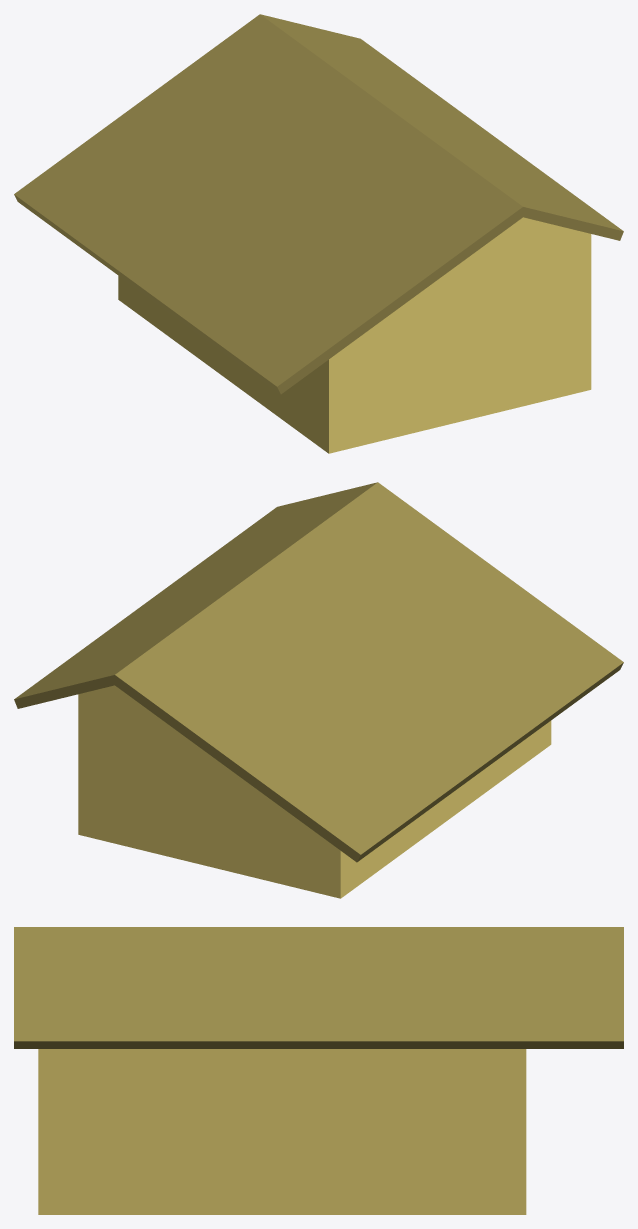
The model's file is result.glb.
3 views of the same model, one above another, from view 1: azimuth 30°, elevation 25°; view 2: azimuth 150°, elevation 25°; view 3: azimuth 270°, elevation 25° (orthographic). The views are drawn at different scales.
Visible parts, largest first — view 1: fd0e9b01-eb48-4d82-8ec3-e2e1b1454574__undefined (×2), af110290-658b-4aaa-be27-1644fa900ac5__undefined; view 2: fd0e9b01-eb48-4d82-8ec3-e2e1b1454574__undefined (×2), af110290-658b-4aaa-be27-1644fa900ac5__undefined; view 3: af110290-658b-4aaa-be27-1644fa900ac5__undefined, fd0e9b01-eb48-4d82-8ec3-e2e1b1454574__undefined.
Part boxes in pixels (x1,y1,x2,y2): fd0e9b01-eb48-4d82-8ec3-e2e1b1454574__undefined (×2): (14,14,623,394); af110290-658b-4aaa-be27-1644fa900ac5__undefined: (118,217,591,453); fd0e9b01-eb48-4d82-8ec3-e2e1b1454574__undefined (×2): (14,482,623,862); af110290-658b-4aaa-be27-1644fa900ac5__undefined: (78,685,551,898); af110290-658b-4aaa-be27-1644fa900ac5__undefined: (38,1049,526,1214); fd0e9b01-eb48-4d82-8ec3-e2e1b1454574__undefined: (14,927,623,1048).
Bounding box in the file's own units: 951 × 550 × 1250.
